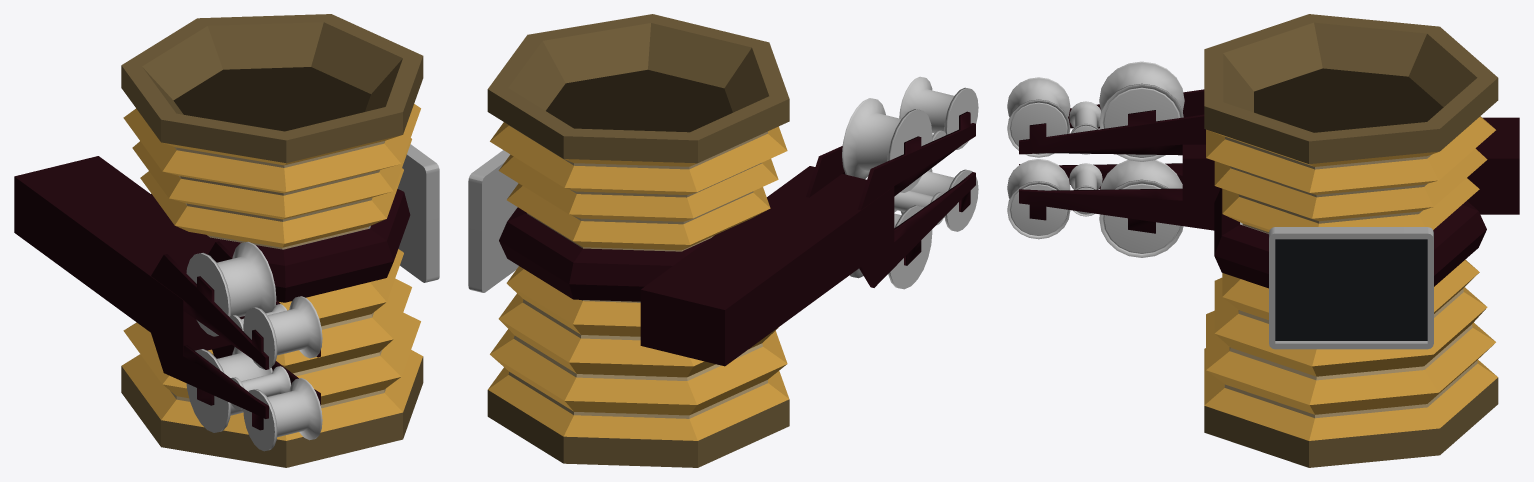
The model's file is PlayerAnimation_Top_PickUp.fbx.
3 renders of one model, left to right at view 1: azimuth 30°, elevation 25°; view 2: azimuth 150°, elevation 25°; view 3: azimuth 270°, elevation 25°, orthographic.
Visible parts, largest first — view 1: Original; view 2: Original; view 3: Original.
Part boxes in pixels (box(x1,y1,x2,y2)): Original: box(14, 14, 439, 467); Original: box(468, 14, 978, 467); Original: box(1007, 14, 1519, 467).
Size of the model in its own units: 226 by 233 by 331.
